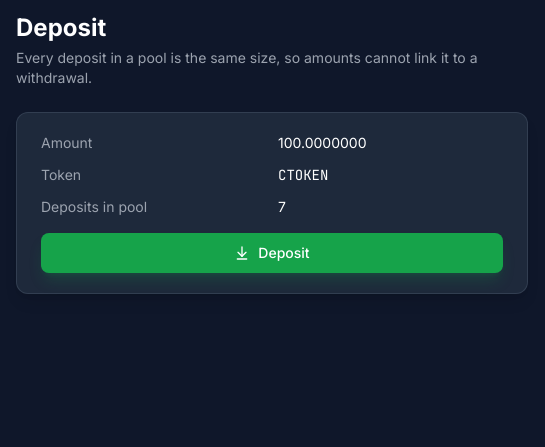
Test: Deposit › shows the pool and offers a backup after depositing
Check: the text "100.0000000" is shown, box [278, 134, 366, 151]
Check: the text "7" is shown, box [278, 198, 286, 215]
Click the button "Deposit". click: (272, 253)
box: [41, 233, 503, 273]
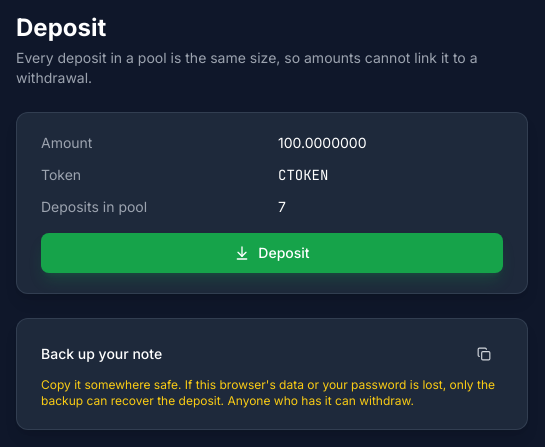
Check: the heading "Back up your note" is shown, box [41, 344, 162, 364]
